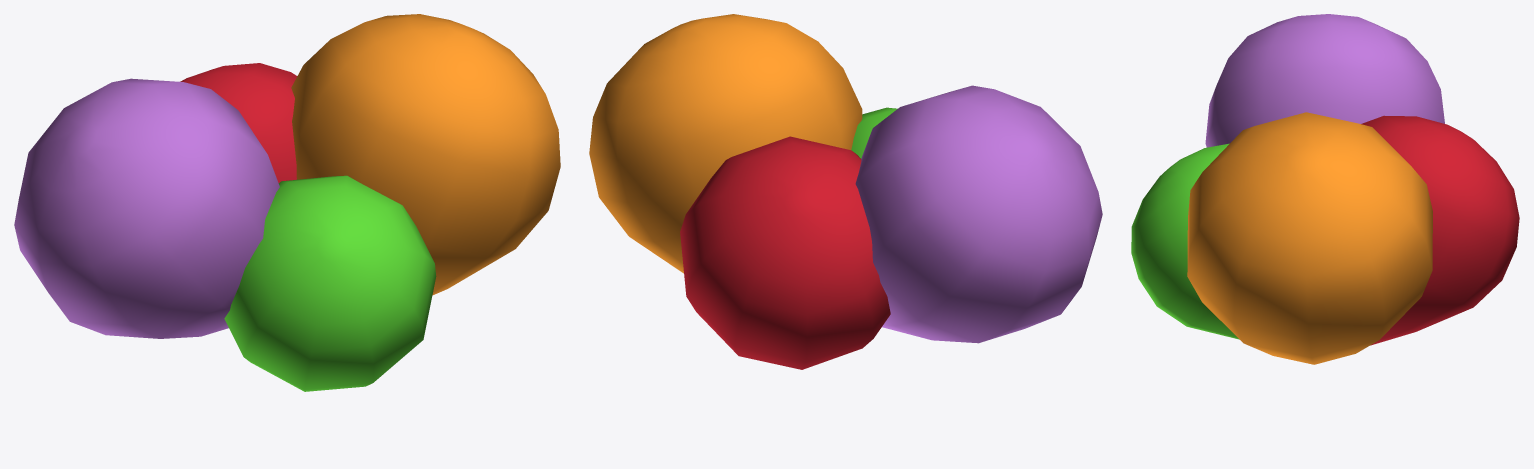
File: GamekaLand_Balloon.fbx
3 renders of one model, left to right at view 1: azimuth 30°, elevation 25°; view 2: azimuth 150°, elevation 25°; view 3: azimuth 270°, elevation 25°, orthographic. The views are drawn at different scales.
Parts seen in each view (by area): view 1: pSphere5, pSphere4, pSphere2, pSphere3; view 2: pSphere5, pSphere4, pSphere3, pSphere2; view 3: pSphere4, pSphere5, pSphere3, pSphere2.
Boxes of the visible parts, x1=… form: pSphere5: x1=14, y1=78, x2=279, y2=338; pSphere4: x1=291, y1=14, x2=560, y2=295; pSphere2: x1=224, y1=175, x2=436, y2=391; pSphere3: x1=180, y1=63, x2=297, y2=182; pSphere5: x1=855, y1=85, x2=1102, y2=343; pSphere4: x1=589, y1=14, x2=862, y2=273; pSphere3: x1=680, y1=136, x2=890, y2=369; pSphere2: x1=851, y1=107, x2=897, y2=158; pSphere4: x1=1187, y1=112, x2=1432, y2=364; pSphere5: x1=1205, y1=14, x2=1444, y2=147; pSphere3: x1=1361, y1=115, x2=1519, y2=345; pSphere2: x1=1131, y1=143, x2=1239, y2=339.
Bounding box in the file's own units: 14.48 × 11.36 × 10.85.
